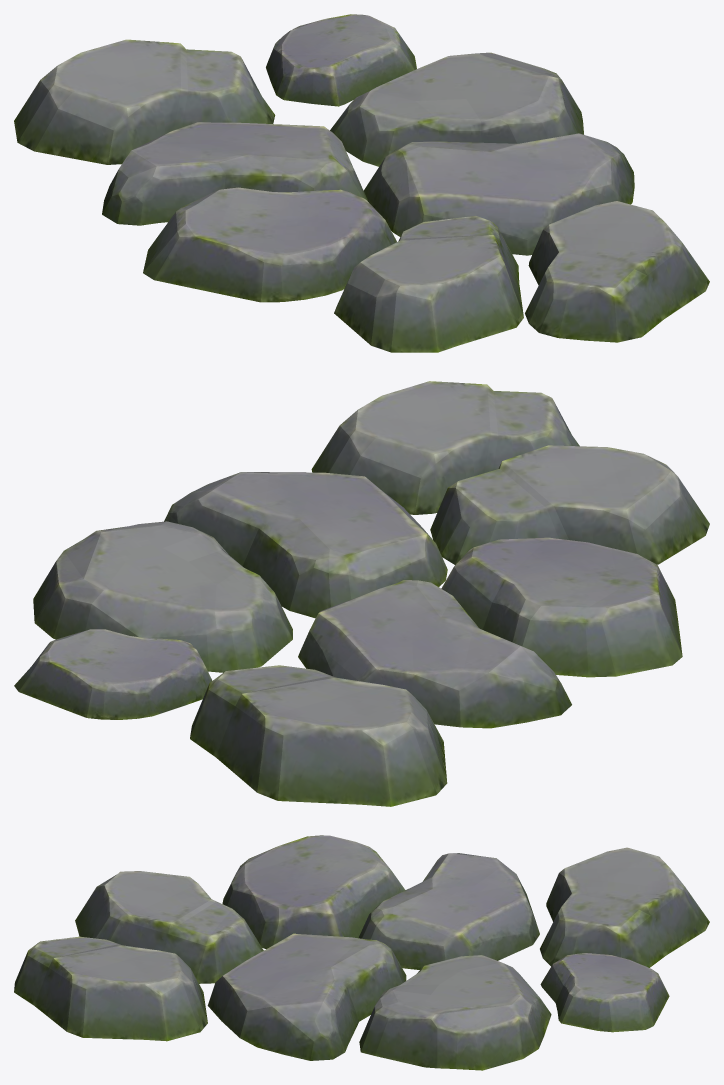
Rendered from rockpath_round_small_1.gltf.
3 renders of one model, top to bottom at view 1: azimuth 30°, elevation 25°; view 2: azimuth 150°, elevation 25°; view 3: azimuth 270°, elevation 25°, orthographic. The views are drawn at different scales.
Visible parts, largest first — view 1: RockPath_Round_Small_1; view 2: RockPath_Round_Small_1; view 3: RockPath_Round_Small_1.
Boxes of the visible parts, x1,y1,x2,y2 form: RockPath_Round_Small_1: [14, 14, 709, 352]; RockPath_Round_Small_1: [14, 381, 709, 806]; RockPath_Round_Small_1: [14, 835, 709, 1070].
Bounding box in the file's own units: 1.06 × 0.1128 × 1.48.
Materials: 1 (1 with a texture image).
